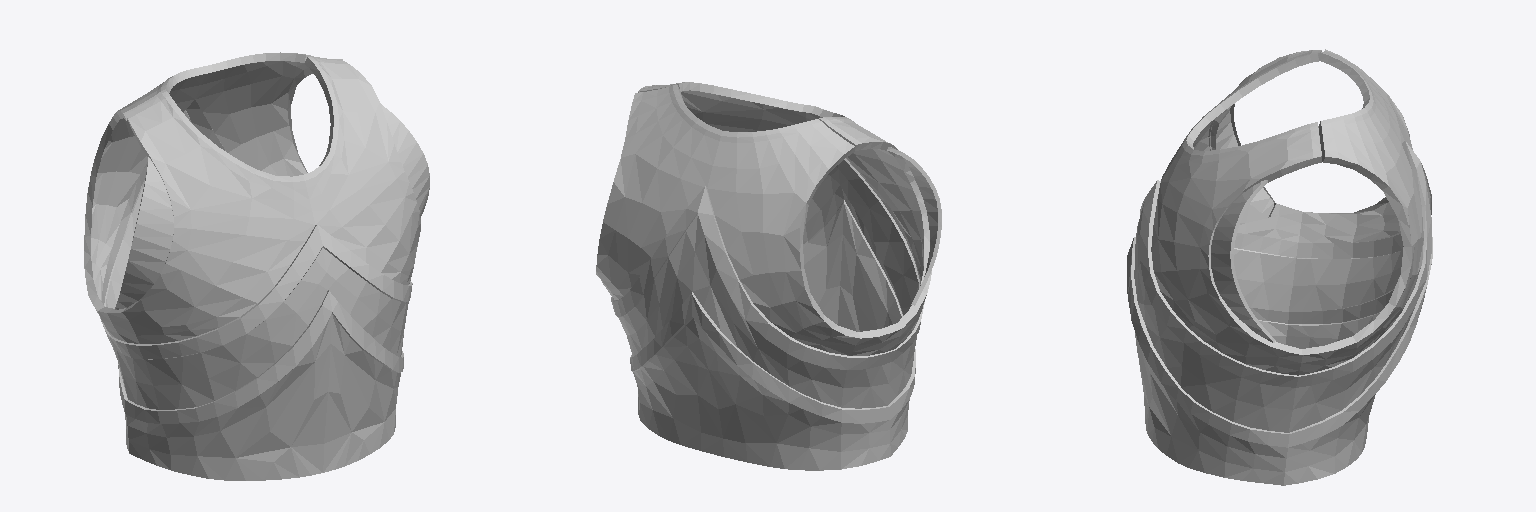
The model's file is torse.obj.
3 views of the same model, side by side, from view 1: azimuth 30°, elevation 25°; view 2: azimuth 150°, elevation 25°; view 3: azimuth 270°, elevation 25° (orthographic).
Visible parts, largest first — view 1: Soi_SimpleArmor.009_Plane.022, Soi_SimpleArmor.015_Plane.024, Soi_SimpleArmor.014_Plane.023; view 2: Soi_SimpleArmor.009_Plane.022, Soi_SimpleArmor.015_Plane.024; view 3: Soi_SimpleArmor.009_Plane.022, Soi_SimpleArmor.014_Plane.023, Soi_SimpleArmor.015_Plane.024.
Part boxes in pixels (left/top/right/bottom): Soi_SimpleArmor.009_Plane.022: left=84, top=52, right=420, bottom=480; Soi_SimpleArmor.015_Plane.024: left=115, top=157, right=173, bottom=309; Soi_SimpleArmor.014_Plane.023: left=381, top=104, right=429, bottom=217; Soi_SimpleArmor.009_Plane.022: left=596, top=82, right=931, bottom=470; Soi_SimpleArmor.015_Plane.024: left=887, top=147, right=941, bottom=306; Soi_SimpleArmor.009_Plane.022: left=1127, top=49, right=1432, bottom=485; Soi_SimpleArmor.014_Plane.023: left=1211, top=180, right=1275, bottom=342; Soi_SimpleArmor.015_Plane.024: left=1209, top=74, right=1275, bottom=217.
Bounding box in the file's own units: 0.4194 × 0.4476 × 0.3682.